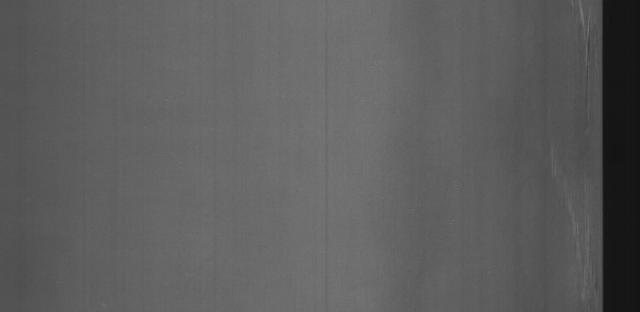silk_spot: (544, 169, 596, 300), (565, 1, 598, 133)
